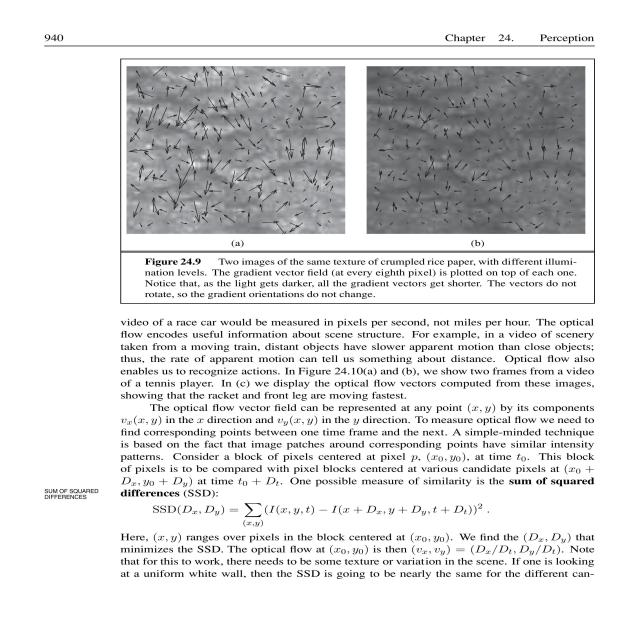diagram: (121, 58, 595, 304)
